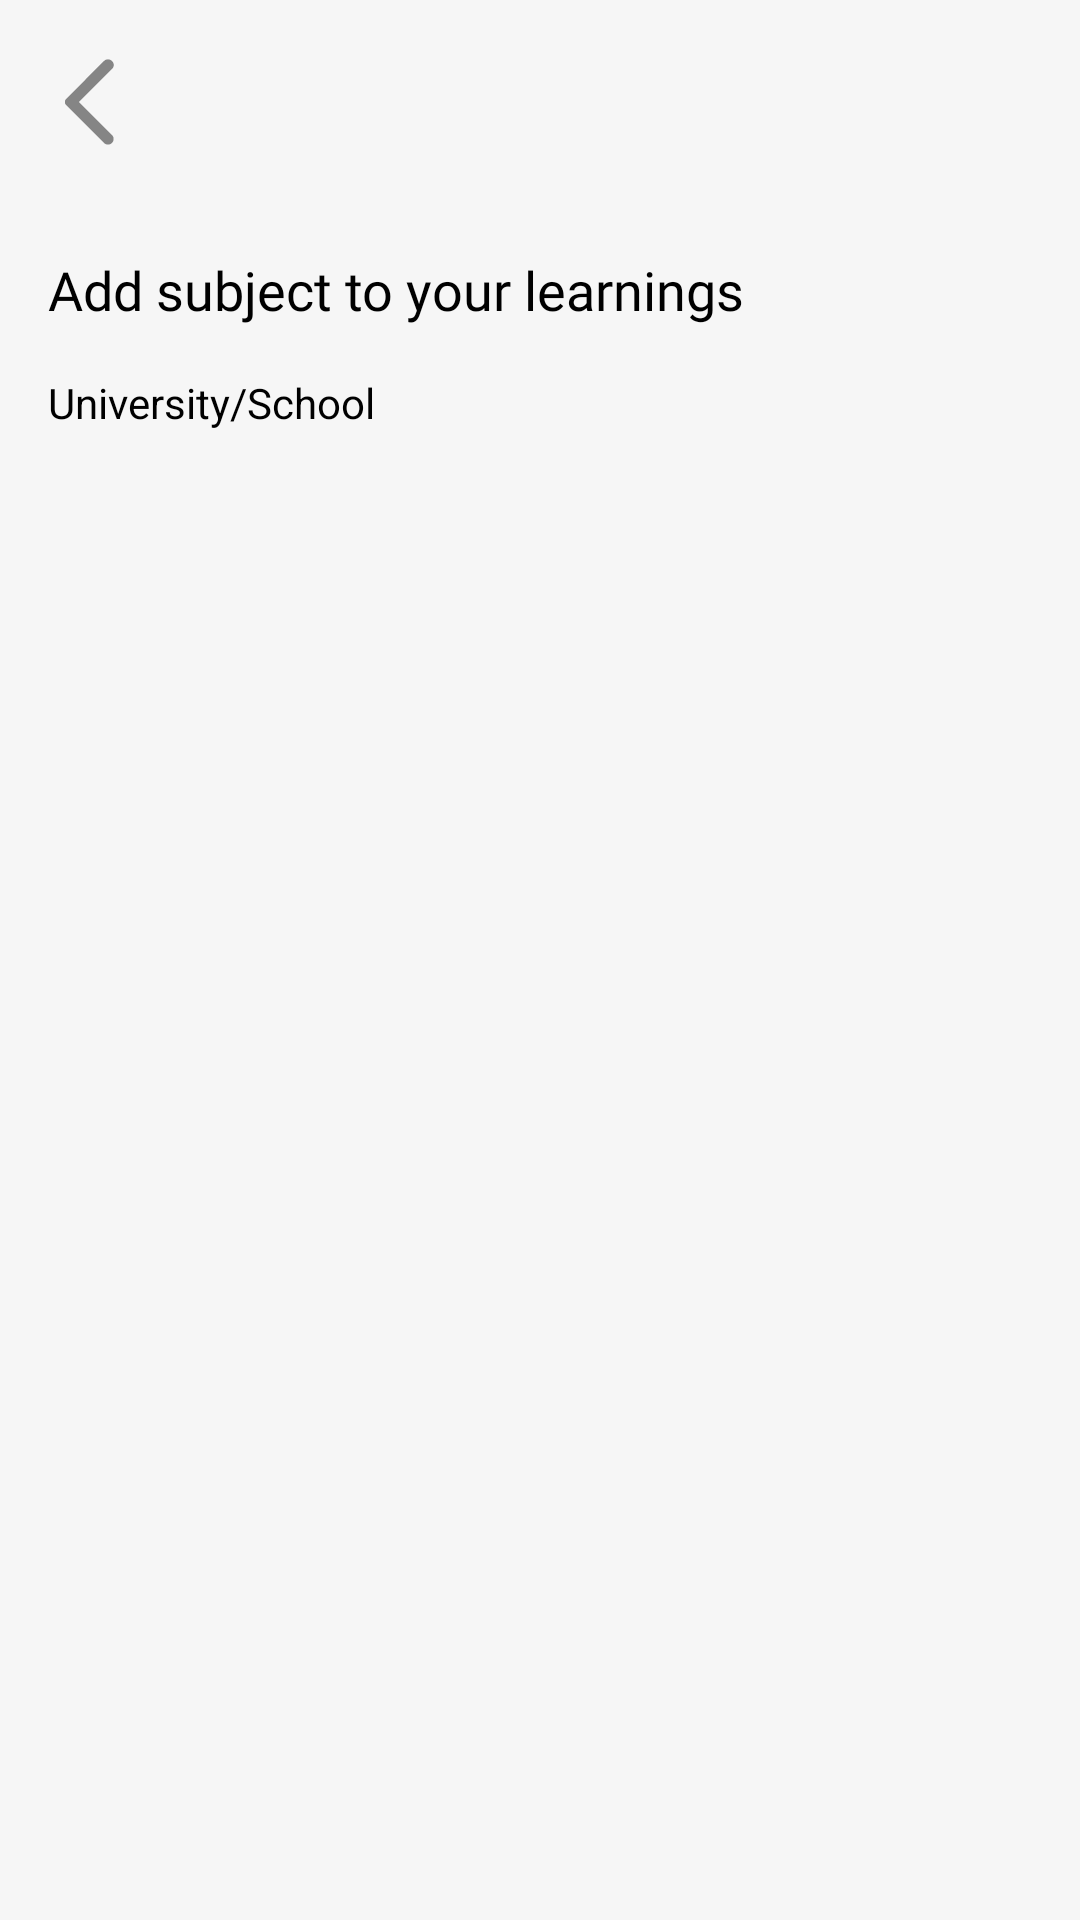

Where icons sit on this 1080w x 1920h app screen, as (x1, y1, x2, y2):
back: (65, 59, 114, 145)
